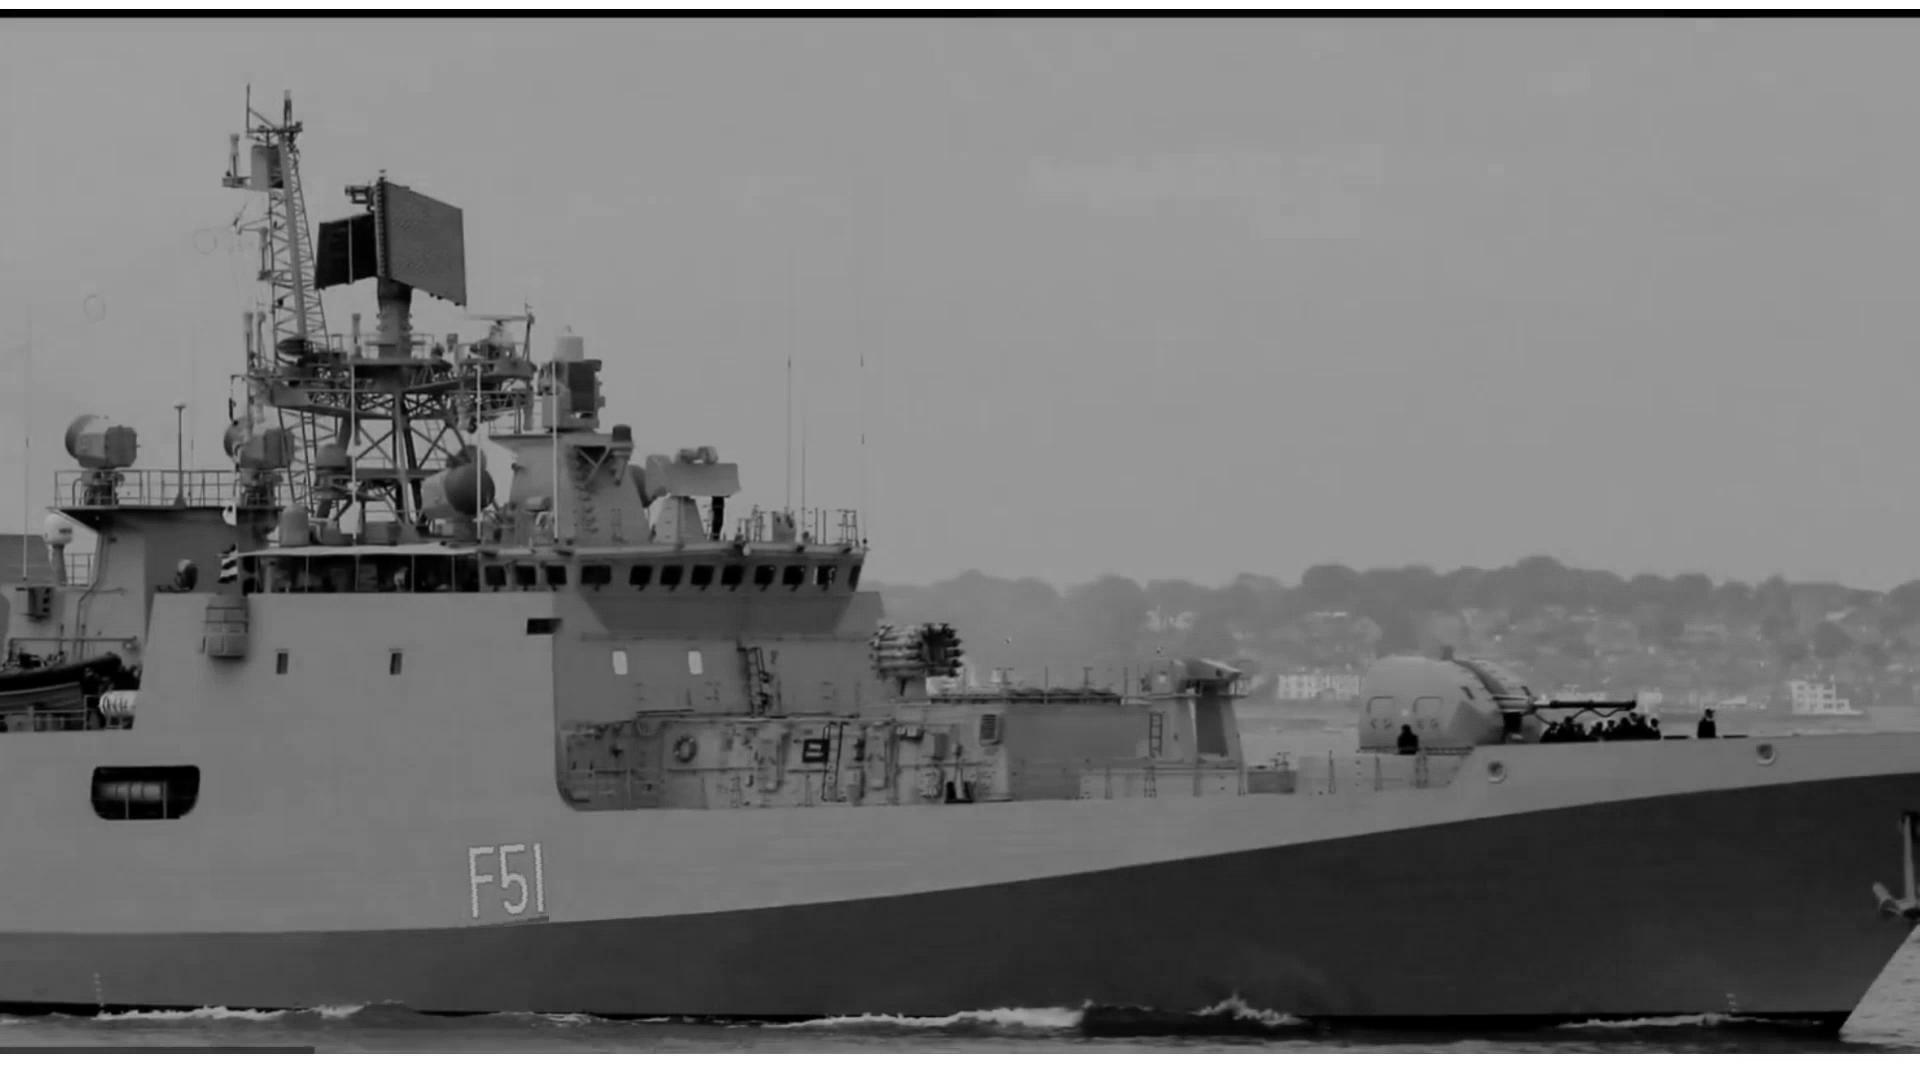OCR: (447, 840, 549, 928)
